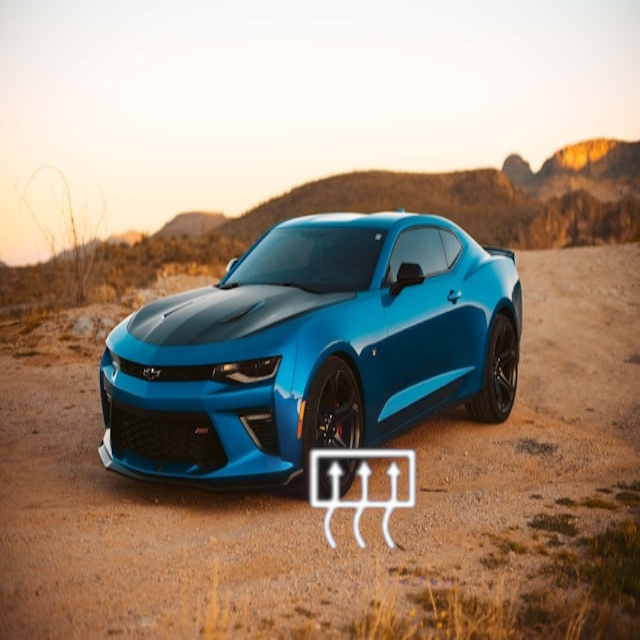symbol: (267, 405, 461, 599)
